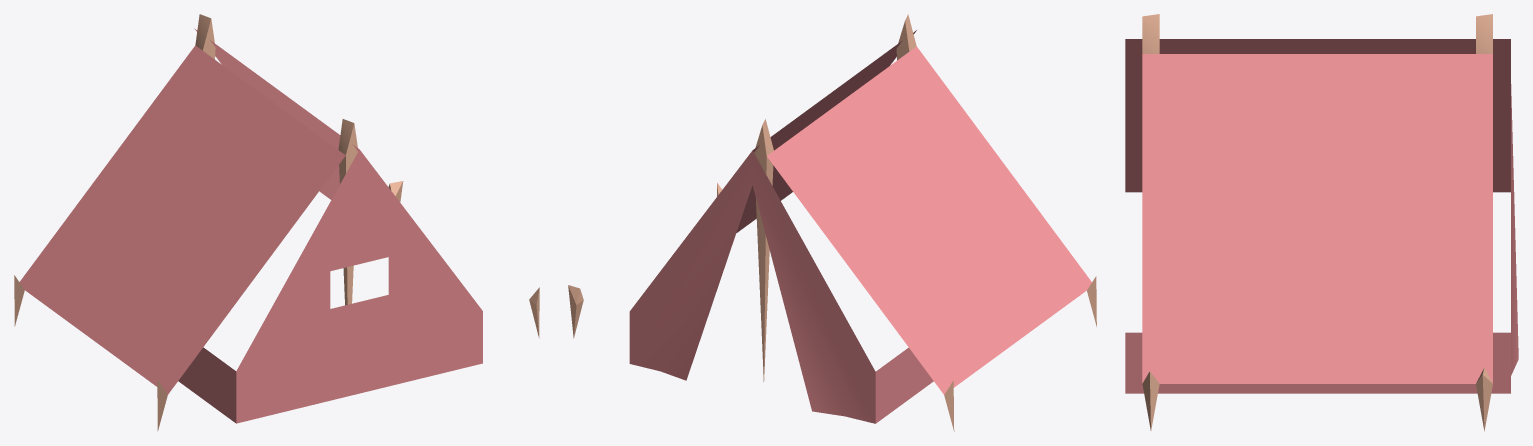
The model's file is tent-open.glb.
The picture shows the model from 3 angles, left to right: view 1: azimuth 30°, elevation 25°; view 2: azimuth 150°, elevation 25°; view 3: azimuth 270°, elevation 25°; orthographic projection. The views are drawn at different scales.
Visible parts, largest first — view 1: tent_detailedOpen; view 2: tent_detailedOpen; view 3: tent_detailedOpen.
Part boxes in pixels (x1,y1,x2,y2): tent_detailedOpen: [14, 14, 539, 431]; tent_detailedOpen: [568, 14, 1096, 431]; tent_detailedOpen: [1125, 14, 1518, 431].
Bounding box in the file's own units: 0.8607 × 0.5611 × 0.6492.
